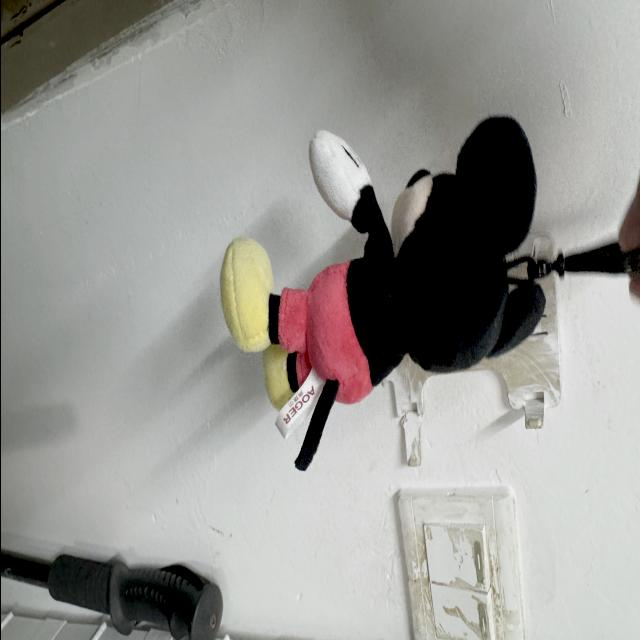mickey: (220, 117, 544, 470)
